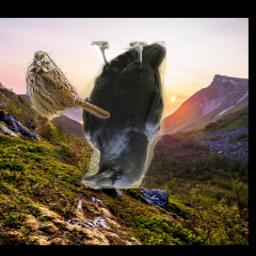Crow: (81, 41, 167, 188)
Sparrow: (25, 52, 110, 136)
